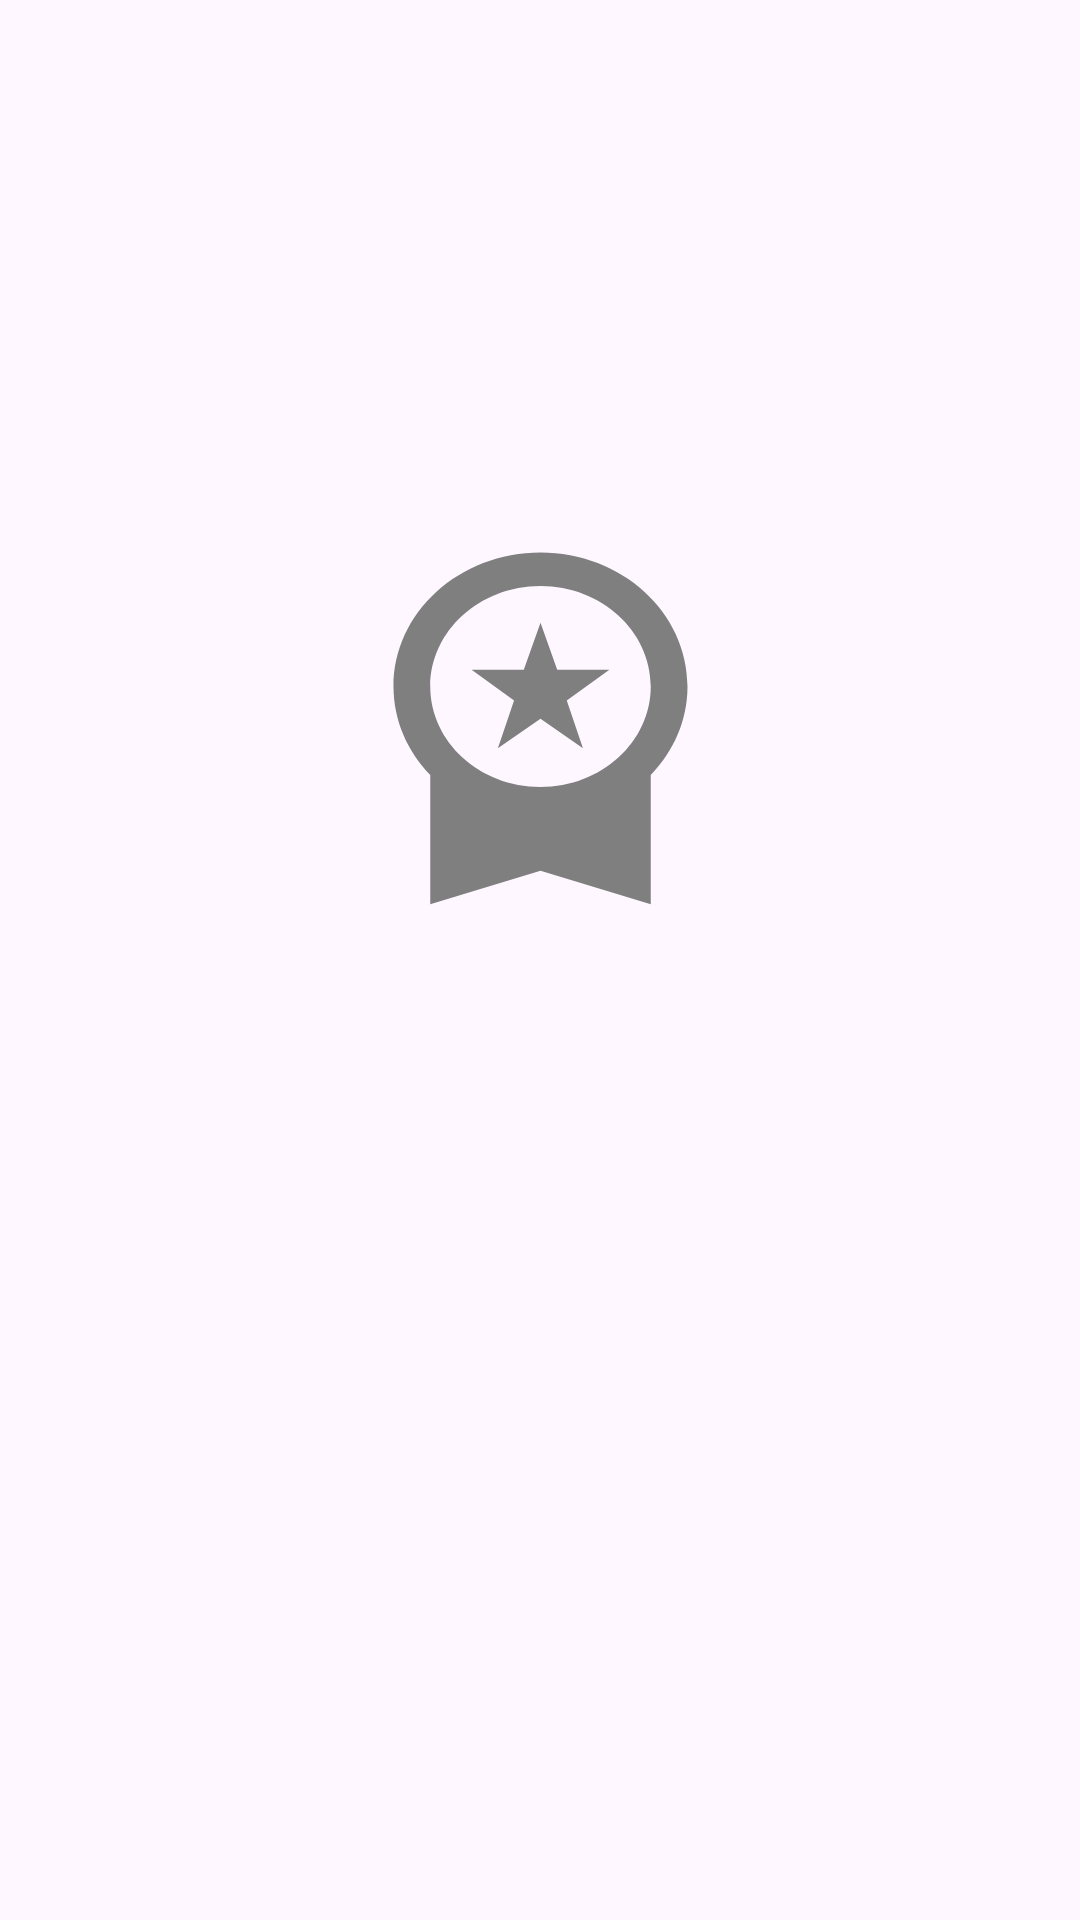

Screen size 1080px x 1920px. Icon name, then its box in pixels as [left=x1, top=y1, right=x2, bottom=y2]:
silver medal: [left=393, top=552, right=688, bottom=904]
